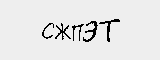Ж: (54, 22, 71, 41)
П: (70, 22, 88, 43)
С: (41, 21, 54, 40)
Т: (99, 18, 123, 41)
Э: (82, 19, 98, 44)
